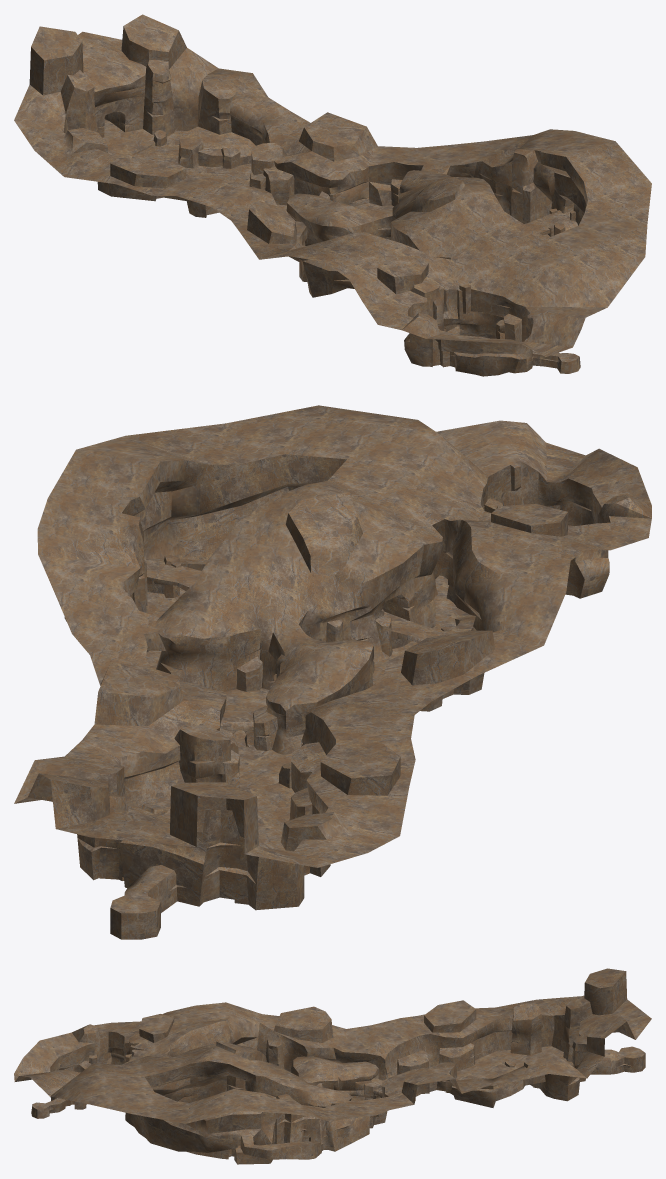
Rendered from terrain1.fbx.
The picture shows the model from 3 angles, top to bottom: view 1: azimuth 30°, elevation 25°; view 2: azimuth 150°, elevation 25°; view 3: azimuth 270°, elevation 25°; orthographic projection. The views are drawn at different scales.
Parts seen in each view (by area): view 1: terrain1; view 2: terrain1; view 3: terrain1.
Boxes of the visible parts, bbox=[...] form: terrain1: bbox=[14, 14, 651, 376]; terrain1: bbox=[14, 405, 651, 939]; terrain1: bbox=[14, 968, 651, 1164].
Size of the model in its own units: 30456 by 7918 by 54348.
